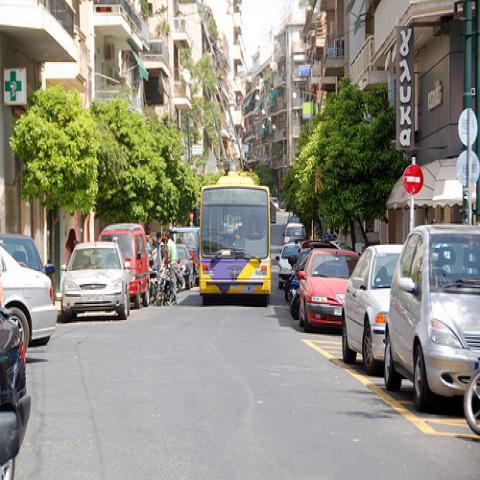bus: (200, 170, 276, 306)
car: (384, 224, 479, 411), (338, 244, 404, 370), (0, 243, 60, 355), (60, 243, 132, 324), (297, 246, 362, 335), (0, 307, 34, 474), (98, 222, 150, 308), (0, 233, 55, 277), (285, 248, 311, 301), (274, 238, 301, 288), (284, 222, 307, 245)
motorcycle: (157, 263, 170, 305), (176, 258, 186, 290), (149, 277, 158, 304)
truck: (169, 228, 200, 287)
